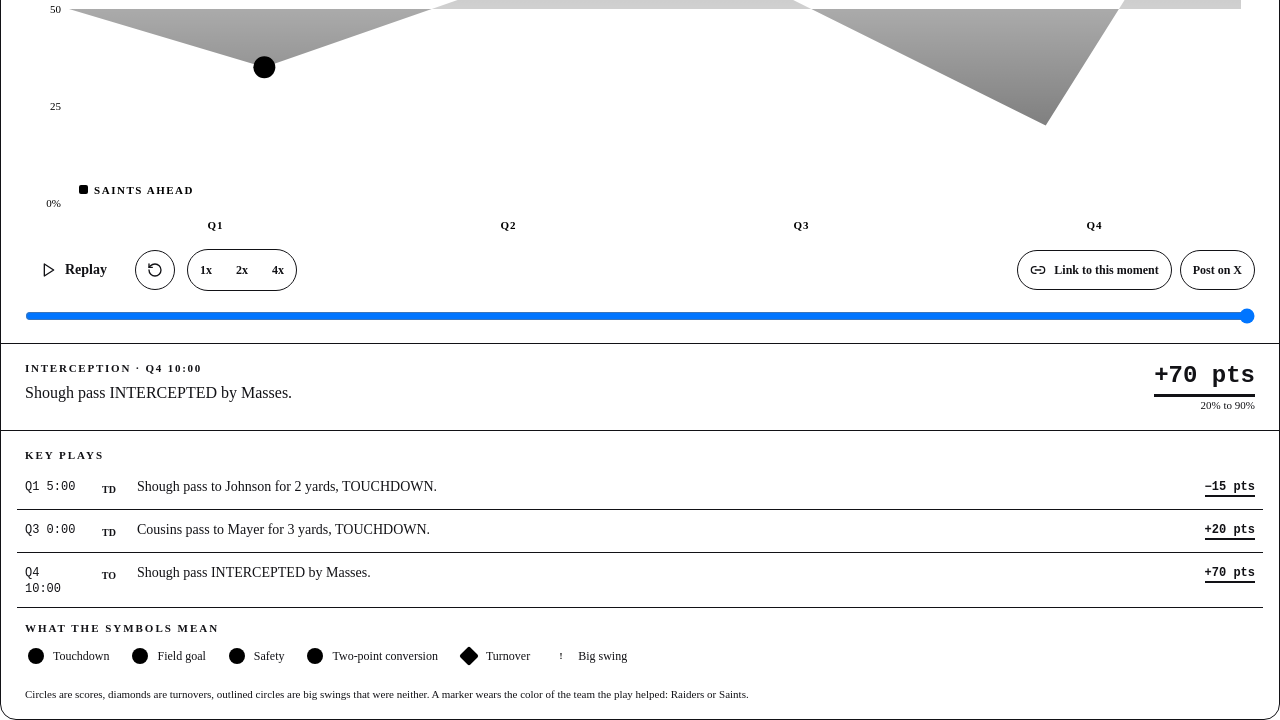
Test case: <WinProbabilityReplay /> › uses a real minus sign for plays that hurt the Raiders
The width and height of the screenshot is (1280, 720).
(page scrolled)
Step 1. Click the button "Johnson" → click(62, 488), box [17,467,1263,509]
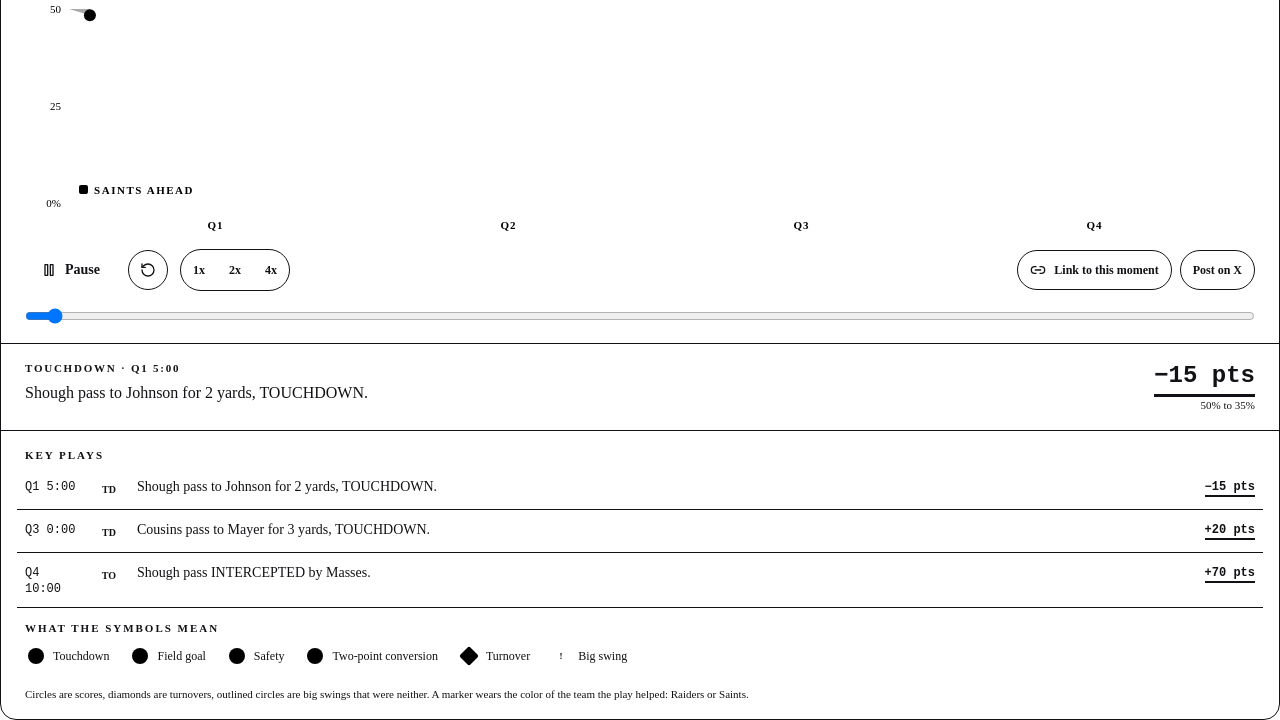
Check: the 1st text "−15 pts" is shown, box [1154,360,1255,397]
